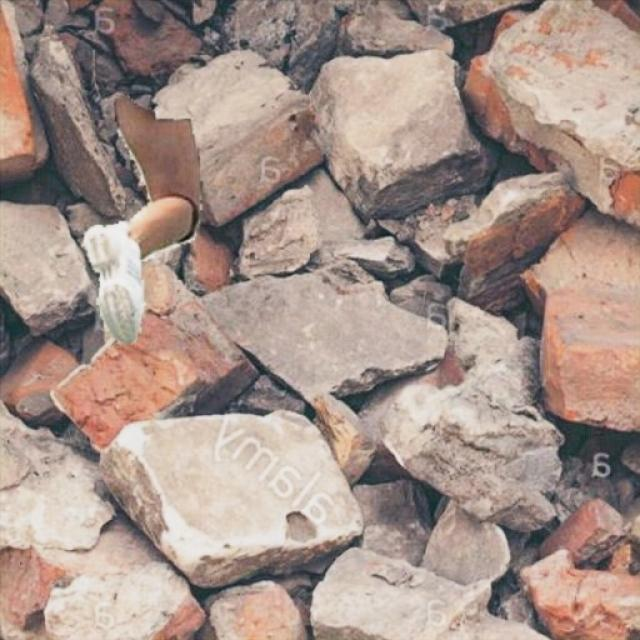Person in Rubble: (81, 94, 201, 342)
